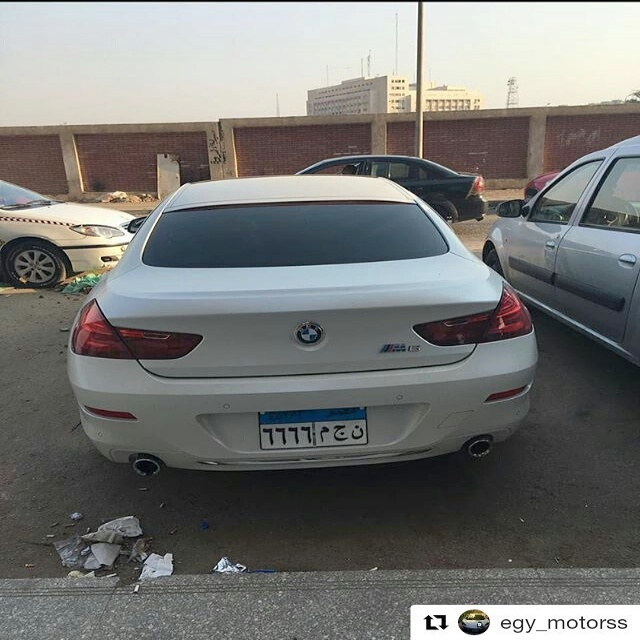License Plate: (256, 405, 371, 452)
